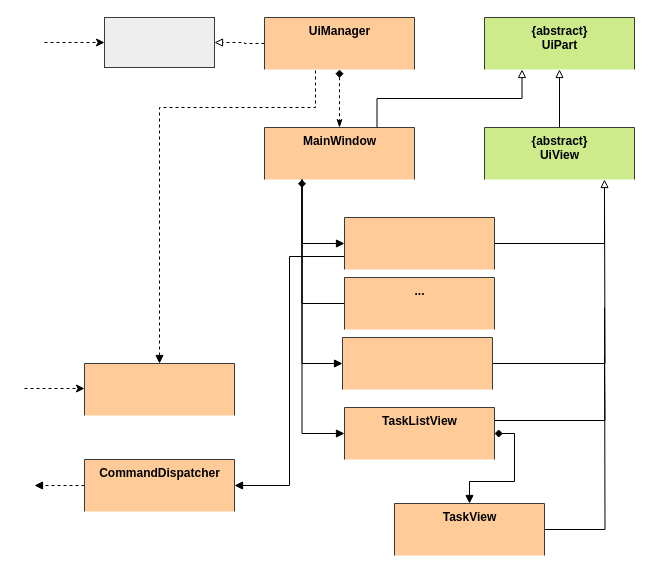
This 652x573 diagram has some shape labels left out. Each missing label, with the centre of its shape:
CommandBox: the point at 419,243
ResultView: the point at 417,363
UiStore: the point at 159,389
«interface» Ui: the point at 159,42
